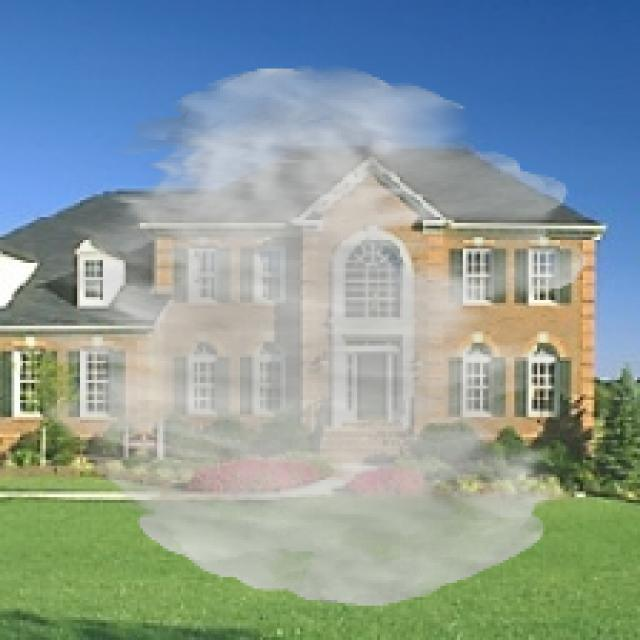smoke: (37, 65, 589, 606)
